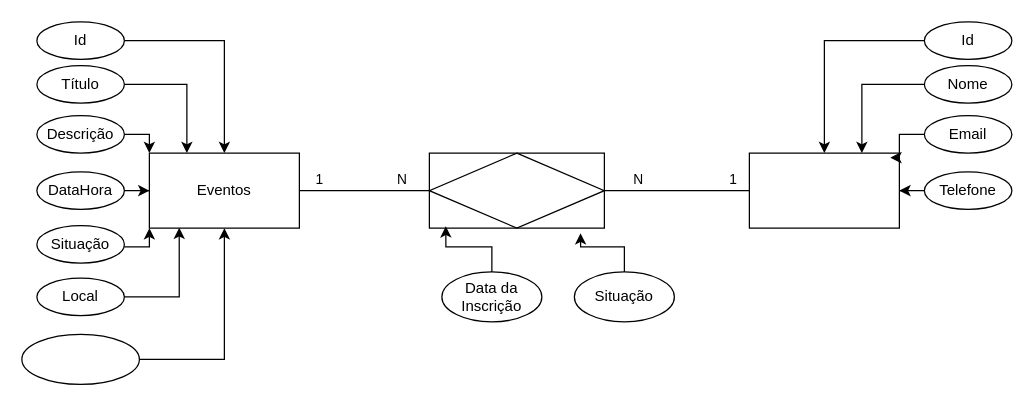
Image size: 1034x406. Some labels were removed from this diagram. The shapes that lost their labels are listed below. From the top down, each one's centre as x and y in pixels, then its label:
At (x=516, y=190): "Inscrições".
At (x=823, y=190): "Participantes".
At (x=80, y=358): "Capacidade Máxima".
